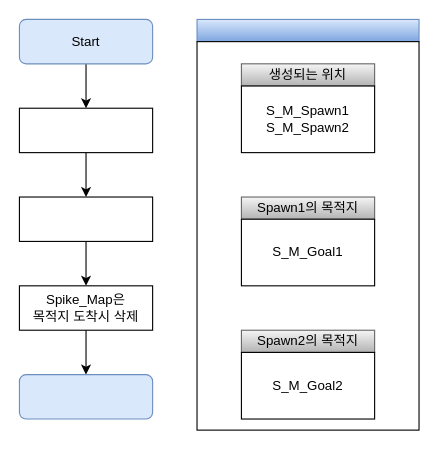
The diagram is 438 pixels wide and 450 high, and some of its shapes have lost their labels. Here are the shapes that lost their labels. From the top down, the centre of each, then its label:
[307,30]: Spike_Map 생성 위치와 목적지
[85,130]: Spike_Map1~12 중 서로 다른 2가지 생성
[85,218]: 생성된 Spike_Map이 생성위치에 따라서 정해진 목적지로 이동
[85,396]: End
